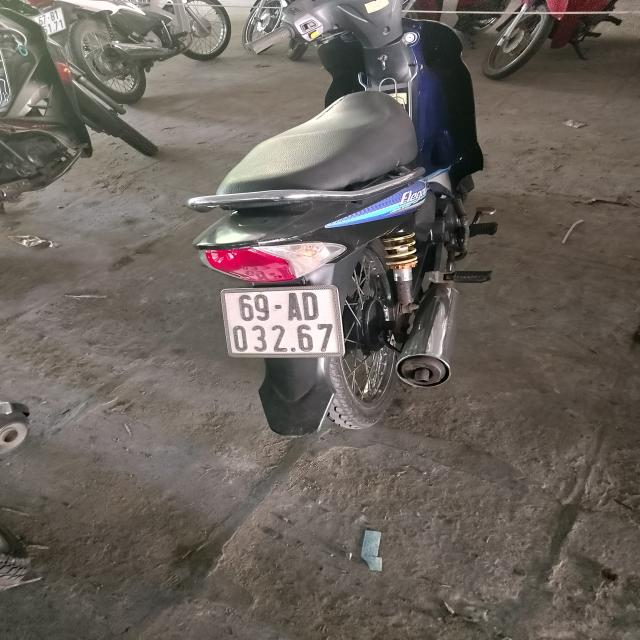0: (232, 326, 250, 352)
2: (271, 324, 291, 354)
3: (251, 324, 269, 352)
6: (294, 323, 315, 352), (237, 294, 253, 321)
7: (316, 322, 337, 354)
9: (252, 294, 270, 322)
A: (286, 292, 301, 321)
D: (302, 291, 318, 321)
